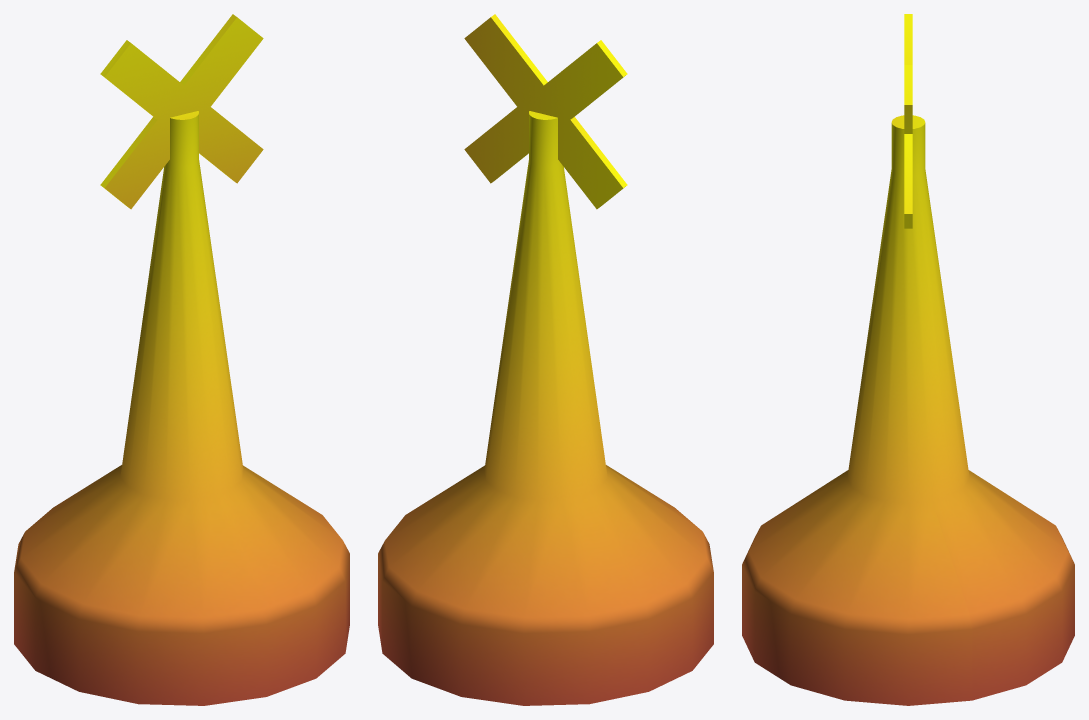
The model's file is Buoy.fbx.
3 views of the same model, side by side, from view 1: azimuth 30°, elevation 25°; view 2: azimuth 150°, elevation 25°; view 3: azimuth 270°, elevation 25° (orthographic).
Visible parts, largest first — view 1: Base, X; view 2: Base, X; view 3: Base, X.
Part boxes in pixels (<box>): Base: <box>14,111,349,705</box>; X: <box>100,14,263,209</box>; Base: <box>378,111,713,705</box>; X: <box>464,14,627,209</box>; Base: <box>742,115,1074,705</box>; X: <box>904,14,912,228</box>.
Size of the model in its own units: 3.81 by 8.03 by 3.81.
